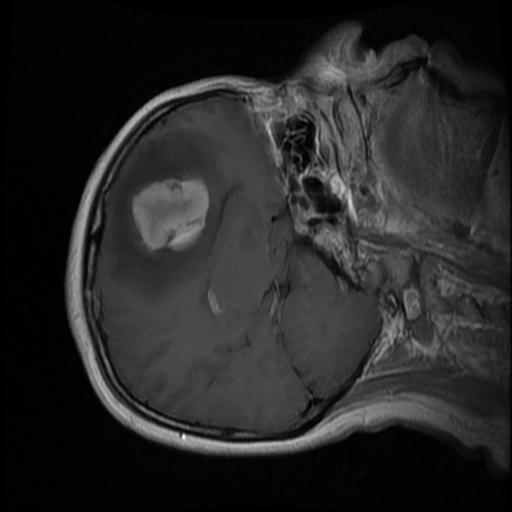meningioma: (131, 177, 209, 250)
